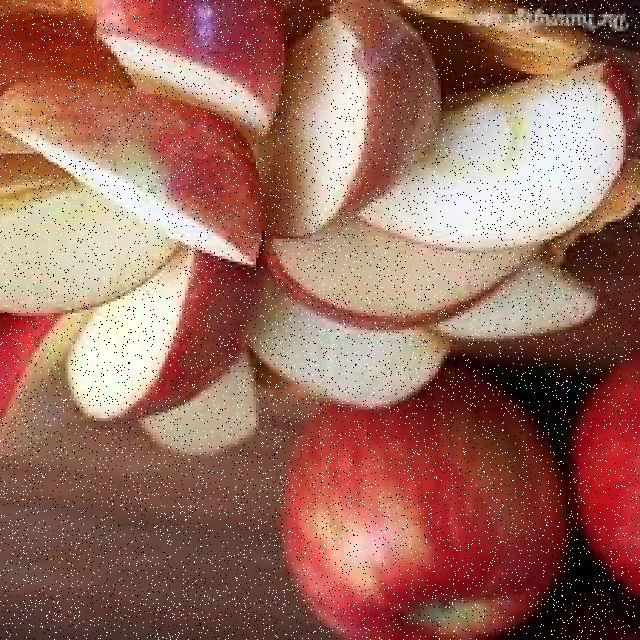Apple: (278, 402, 566, 637), (0, 82, 268, 270), (379, 71, 632, 250), (272, 4, 448, 238), (267, 232, 549, 330), (88, 262, 251, 420), (95, 0, 282, 136), (244, 306, 463, 404), (573, 349, 636, 591), (0, 306, 78, 456)
